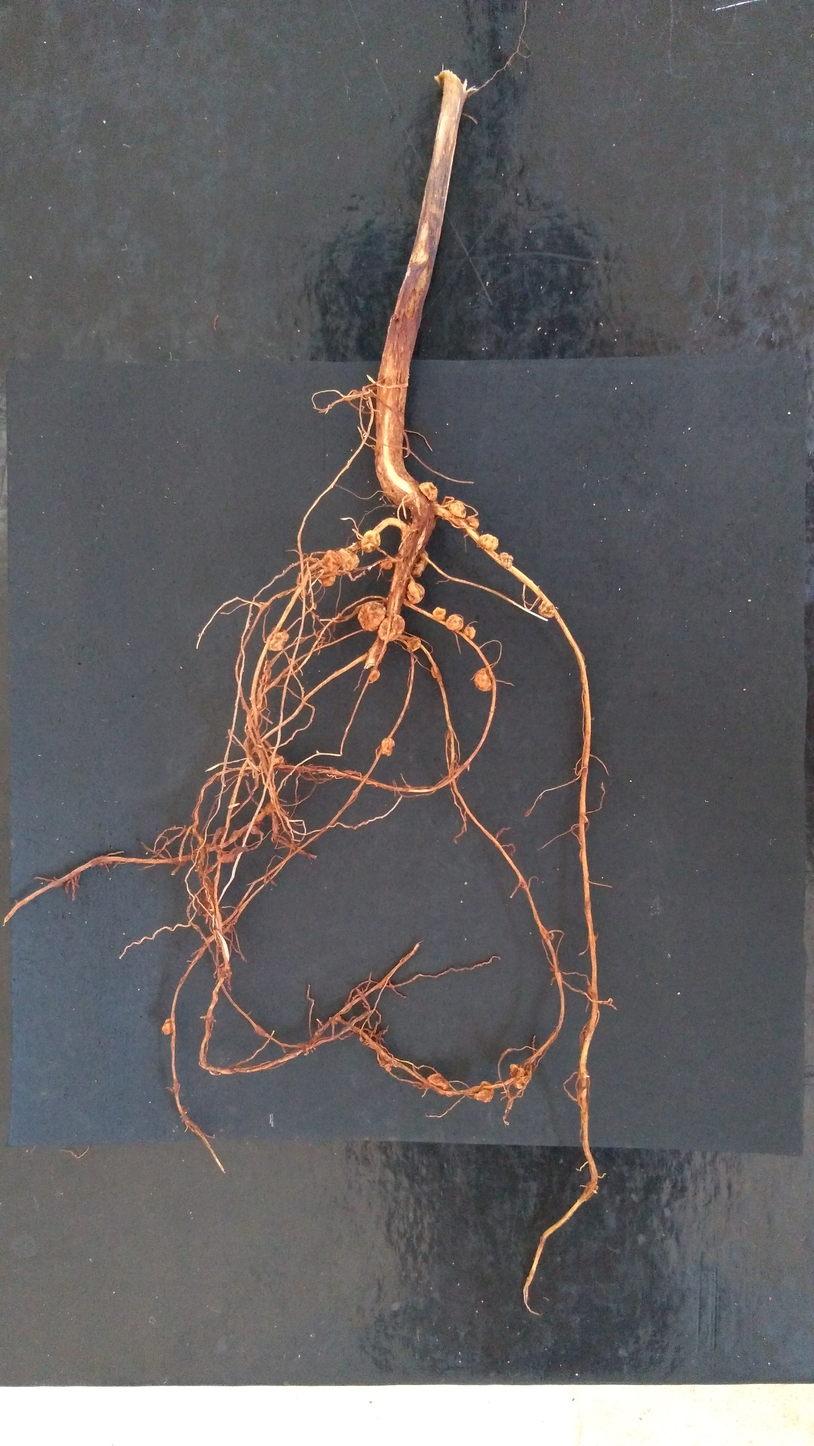nodule: (357, 601, 386, 631), (377, 614, 405, 641), (320, 550, 341, 586), (468, 1081, 494, 1103), (509, 1064, 531, 1089), (268, 627, 290, 651), (411, 549, 428, 578), (426, 1074, 449, 1095), (338, 549, 360, 570), (473, 668, 493, 691), (361, 530, 380, 553), (407, 581, 424, 604), (419, 482, 438, 501), (449, 500, 466, 519), (538, 600, 555, 618), (461, 516, 479, 533), (479, 534, 498, 550), (380, 1054, 397, 1071), (446, 614, 463, 631), (381, 738, 395, 756), (406, 636, 421, 652), (499, 552, 513, 568), (268, 754, 285, 766), (162, 1018, 174, 1035), (461, 625, 475, 639), (433, 607, 446, 620), (369, 669, 380, 682), (379, 561, 393, 569), (431, 666, 440, 678)
